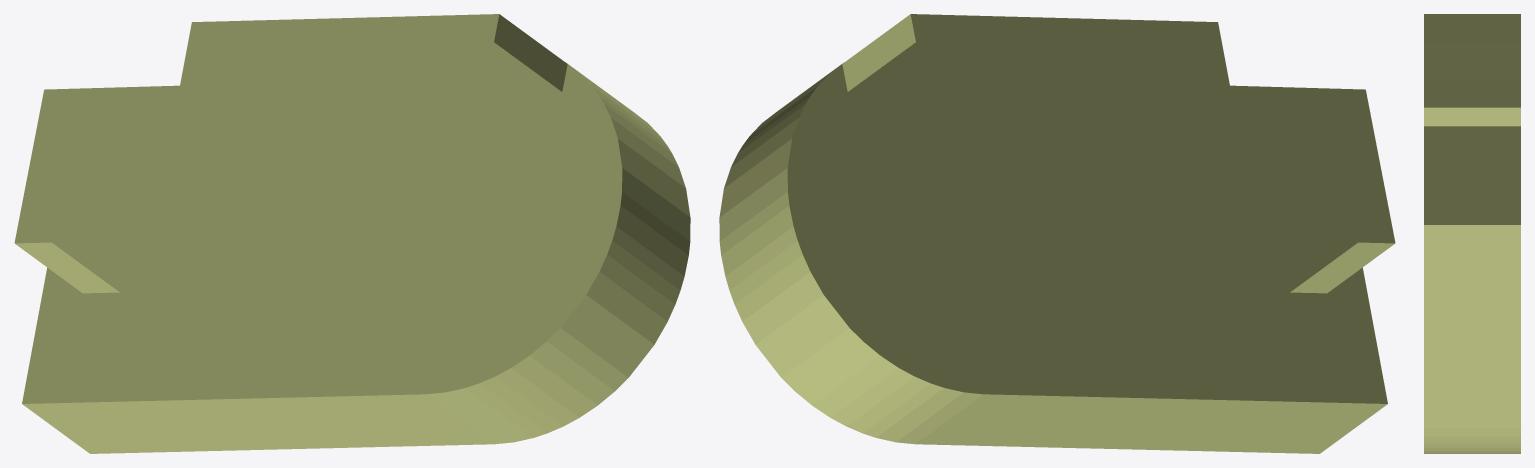
3 views of the same model, side by side, from view 1: azimuth 30°, elevation 25°; view 2: azimuth 150°, elevation 25°; view 3: azimuth 270°, elevation 25° (orthographic). The views are drawn at different scales.
Parts seen in each view (by area): view 1: 0_0_3_2_2_2_3_3; view 2: 0_0_3_2_2_2_3_3; view 3: 0_0_3_2_2_2_3_3.
Part boxes in pixels (<box>): 0_0_3_2_2_2_3_3: <box>14,14,690,453</box>; 0_0_3_2_2_2_3_3: <box>719,14,1395,453</box>; 0_0_3_2_2_2_3_3: <box>1424,14,1520,453</box>.
Bounding box in the file's own units: 46.26 × 31.46 × 9.
